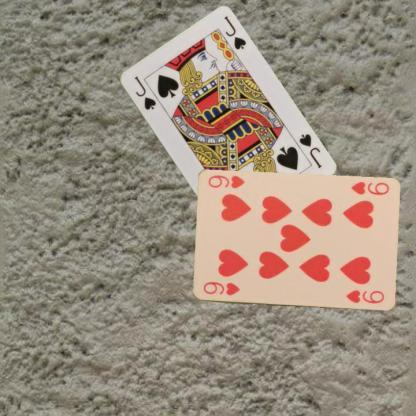9h: (348, 179, 390, 197), (200, 279, 241, 297)
Js: (296, 130, 323, 170), (131, 73, 157, 111)
